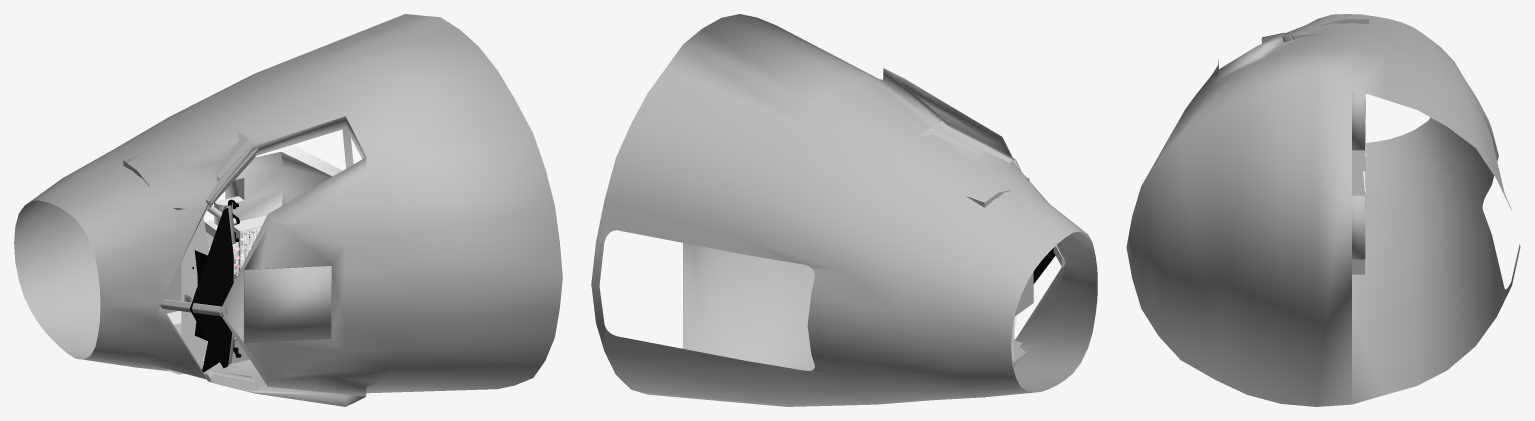
The model's file is b738-fg-cockpit.51324aca.glb.
3 renders of one model, left to right at view 1: azimuth 30°, elevation 25°; view 2: azimuth 150°, elevation 25°; view 3: azimuth 270°, elevation 25°, orthographic. The views are drawn at different scales.
Visible parts, largest first — view 1: dorrhfront, silla, sunshield.002, lhsidepanel.000, lhsidepanel.002, Plane.002, Cube, Plane.001, blank-plate2; view 2: dorrhfront, lhsidepanel.000; view 3: dorrhfront, box, box.001, cinstpanel.001_0.005.
Part boxes in pixels (bbox=[...]): dorrhfront: bbox=[14, 14, 562, 406]; silla: bbox=[214, 145, 342, 225]; sunshield.002: bbox=[189, 208, 233, 368]; lhsidepanel.000: bbox=[123, 131, 258, 209]; lhsidepanel.002: bbox=[165, 362, 258, 390]; Plane.002: bbox=[181, 311, 207, 369]; Cube: bbox=[160, 299, 226, 316]; Plane.001: bbox=[182, 217, 209, 266]; blank-plate2: bbox=[181, 260, 197, 302]; dorrhfront: bbox=[591, 14, 1097, 406]; lhsidepanel.000: bbox=[920, 121, 1029, 207]; dorrhfront: bbox=[1126, 14, 1520, 406]; box: bbox=[1352, 195, 1365, 259]; box.001: bbox=[1352, 89, 1364, 150]; cinstpanel.001_0.005: bbox=[1352, 124, 1365, 195].
Size of the model in its own units: 3.49 by 3.06 by 3.42.
Materials: 36 (17 with a texture image).
